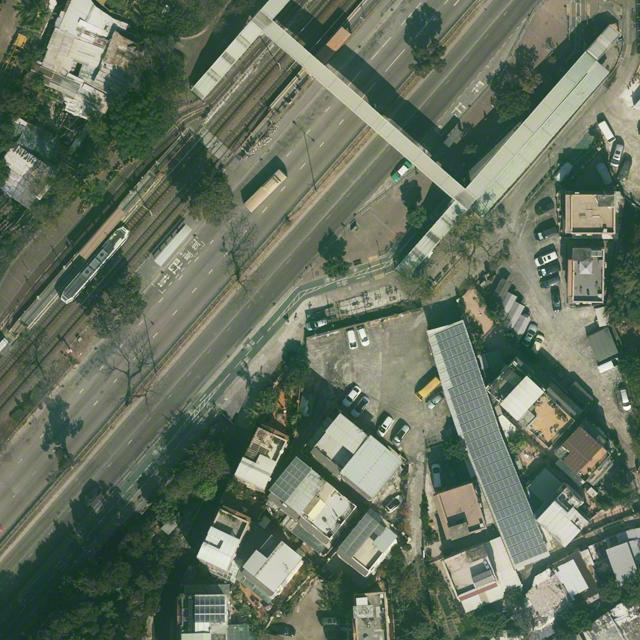panel: (477, 456, 547, 567), (448, 376, 510, 470), (436, 323, 481, 388), (268, 456, 312, 502), (338, 513, 379, 558), (196, 595, 226, 624), (373, 523, 385, 536)
